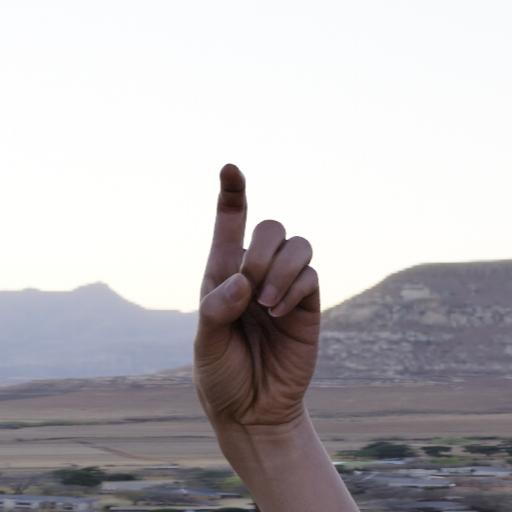X: (139, 91, 387, 450)
